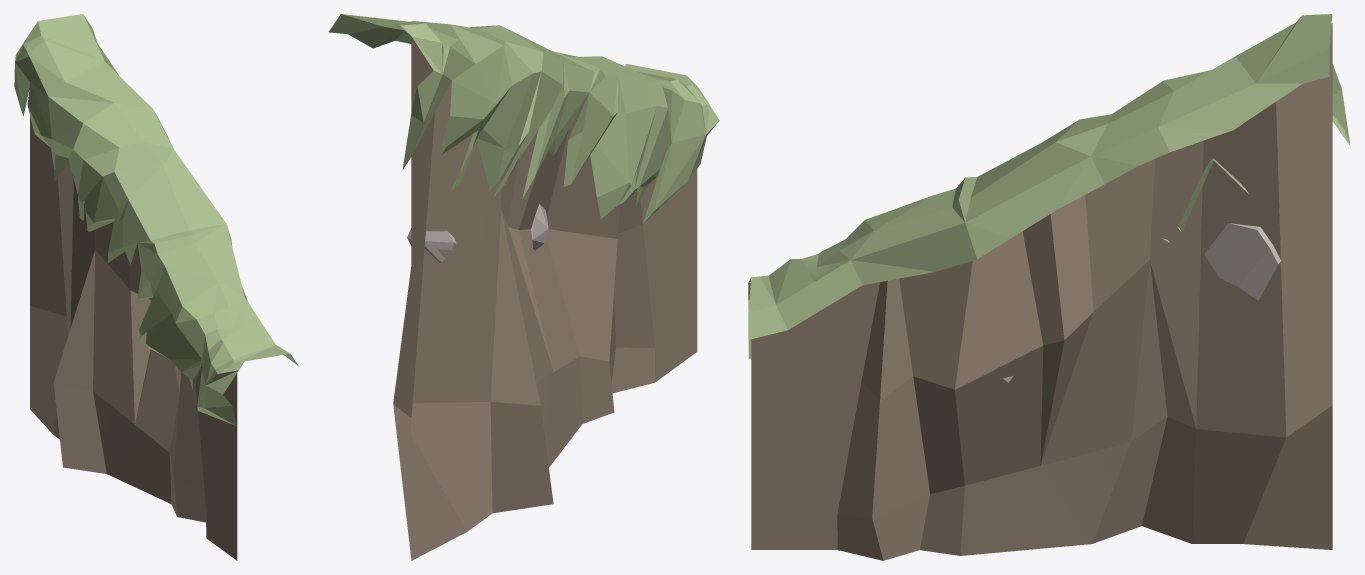
The model's file is ER_Terrain_1x1_GrassSlope_001_A.fbx.
3 views of the same model, side by side, from view 1: azimuth 30°, elevation 25°; view 2: azimuth 150°, elevation 25°; view 3: azimuth 270°, elevation 25° (orthographic). The views are drawn at different scales.
Visible parts, largest first — view 1: ER_Terrain_1x1_GrassSlope_001_A; view 2: ER_Terrain_1x1_GrassSlope_001_A; view 3: ER_Terrain_1x1_GrassSlope_001_A.
Part boxes in pixels (x1,y1,x2,y2): ER_Terrain_1x1_GrassSlope_001_A: (14,14,298,560); ER_Terrain_1x1_GrassSlope_001_A: (328,14,719,560); ER_Terrain_1x1_GrassSlope_001_A: (748,14,1350,560).
Size of the model in its own units: 0.3056 by 1.03 by 1.04.
